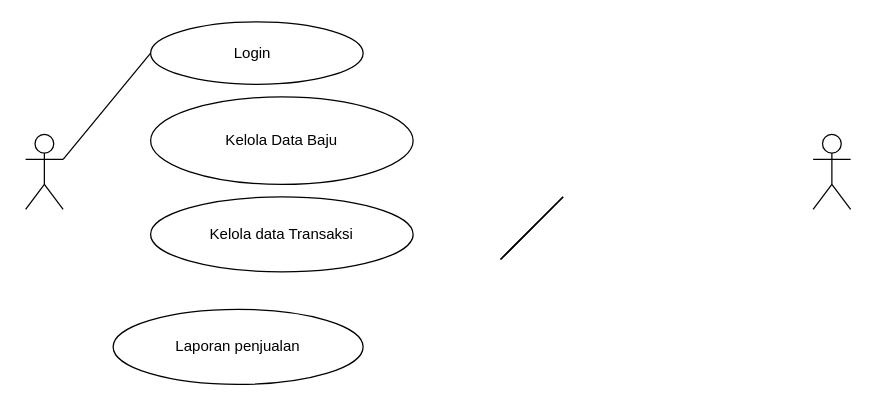
This 891x406 diagram has some shape labels left out. The shapes that lost their labels are listed below. From the top down, each one's centre as x and y in pixels, then its label:
At point 43,171: "admin".
At point 831,171: "Pelanggan".
